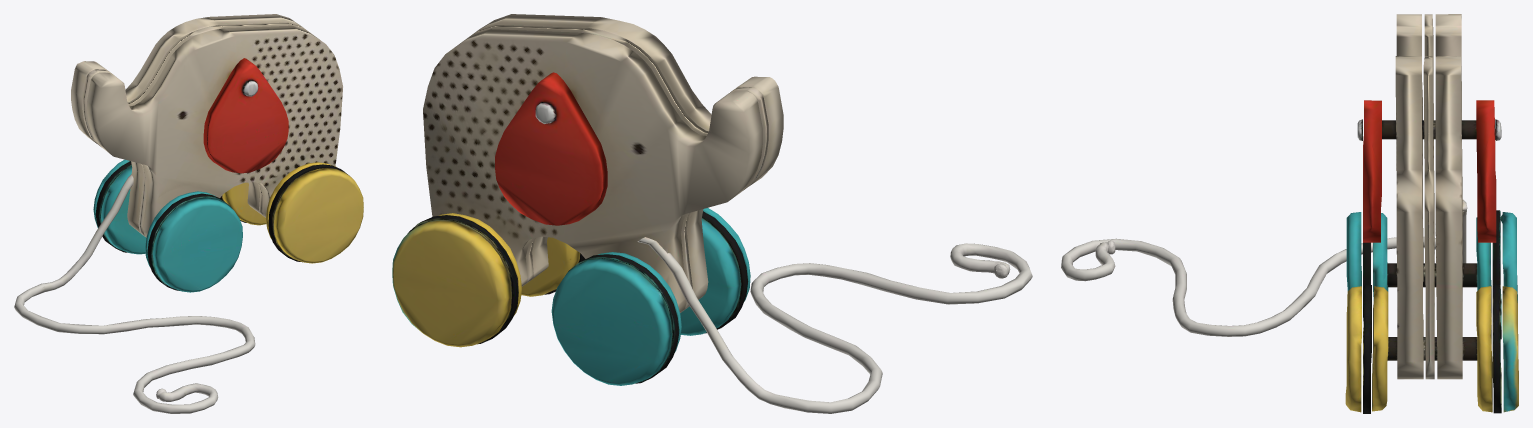
The model's file is Wooden_Elephant_Pull_Toy.glb.
The picture shows the model from 3 angles, left to right: view 1: azimuth 30°, elevation 25°; view 2: azimuth 150°, elevation 25°; view 3: azimuth 270°, elevation 25°; orthographic projection. The views are drawn at different scales.
Parts seen in each view (by area): view 1: Wooden_Elephant_Pull_Toy; view 2: Wooden_Elephant_Pull_Toy; view 3: Wooden_Elephant_Pull_Toy.
Boxes of the visible parts, x1,y1,x2,y2 form: Wooden_Elephant_Pull_Toy: (14,14,363,413); Wooden_Elephant_Pull_Toy: (392,14,1032,413); Wooden_Elephant_Pull_Toy: (1061,14,1518,413).
Size of the model in its own units: 0.998 by 0.7129 by 0.9863.
Materials: 1 (1 with a texture image).
